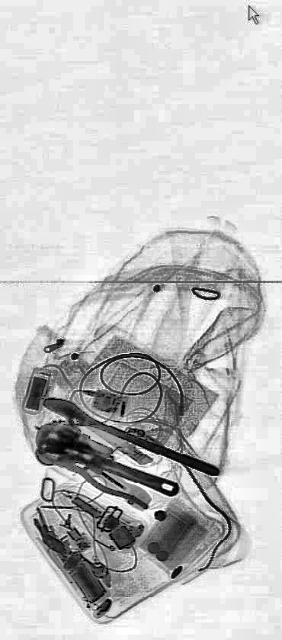Pliers: (56, 431, 162, 514)
Wrench: (41, 390, 220, 486)
